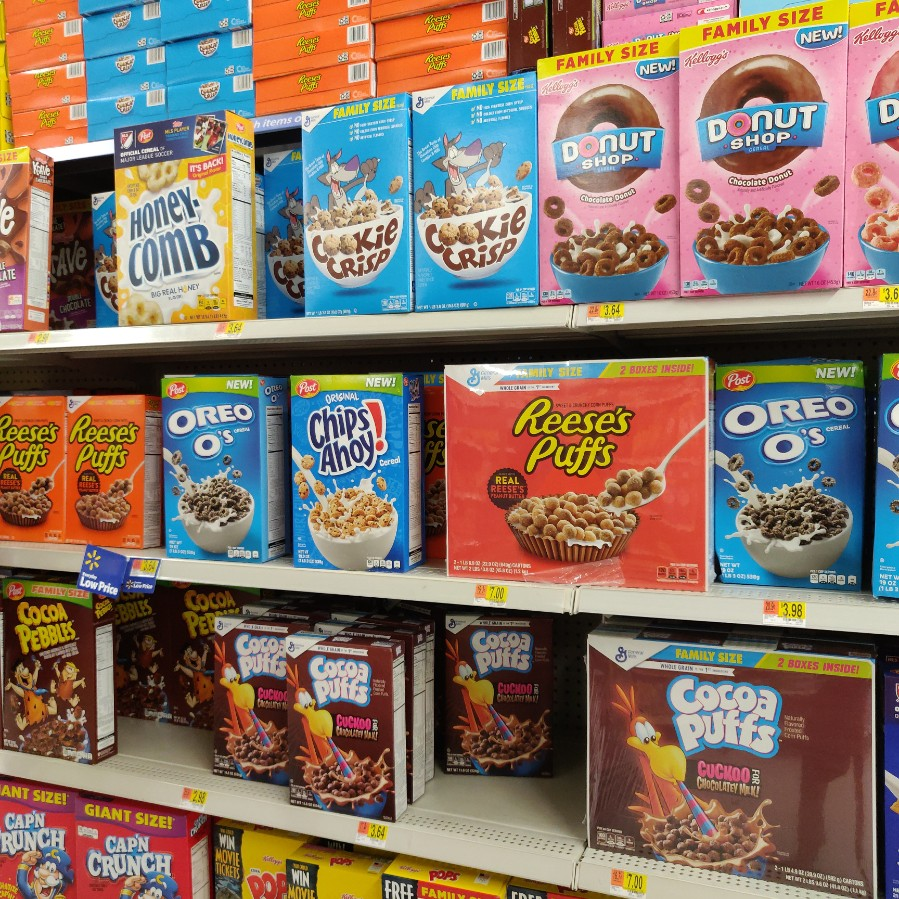Chips Ahoys-565717529: (282, 372, 415, 581)
Honey Comb- 009288857: (111, 126, 260, 319)
Oreo-563424384: (713, 359, 871, 596), (155, 363, 285, 563)
